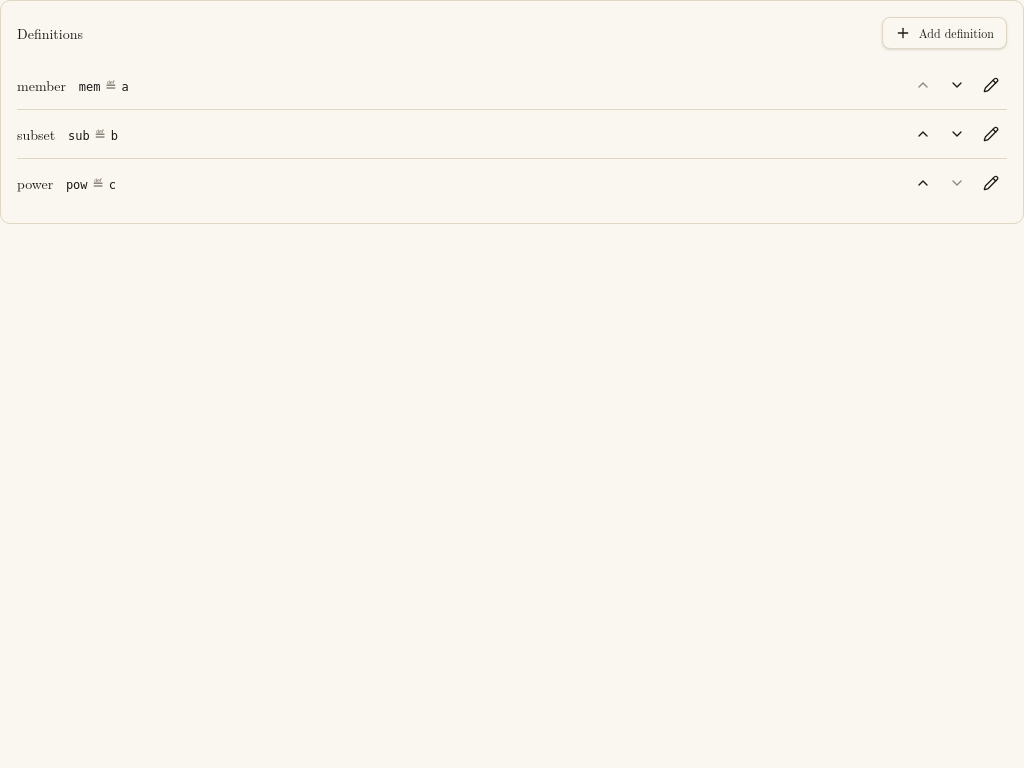
DefinitionsSection layering › offers only *earlier* definitions when editing a middle one
Click the 6th button named "Edit ": (991, 134) left=975, top=118, right=1007, bottom=150
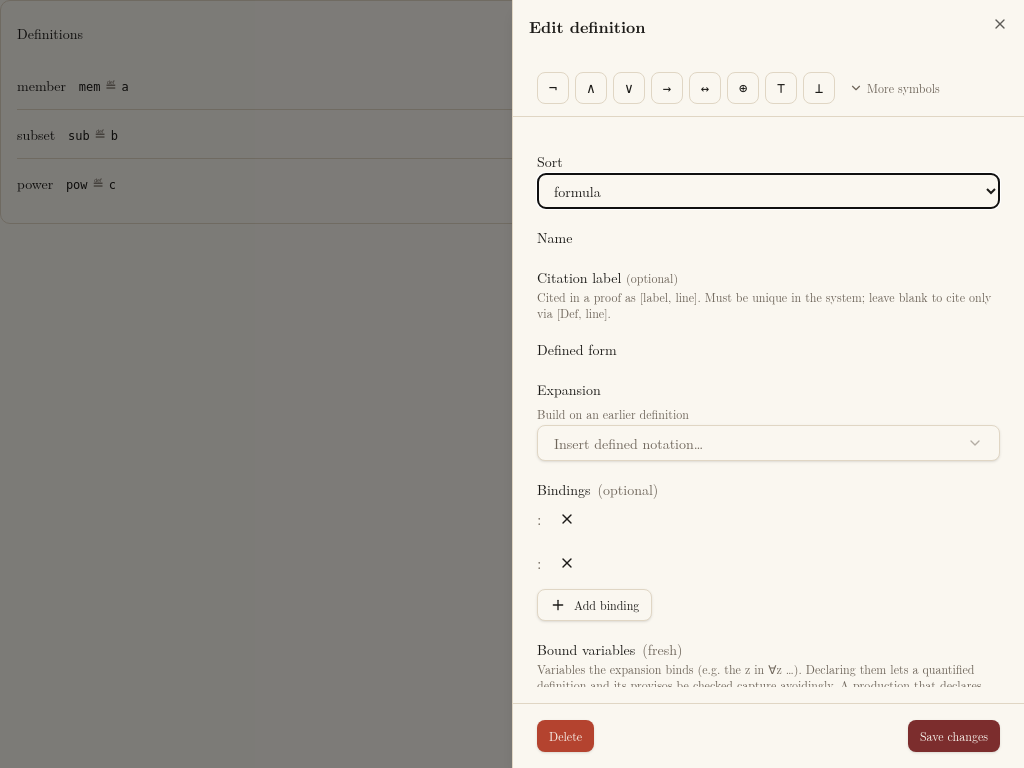
Click the dropdown named "Build on an earlier definition": (629, 443) left=537, top=425, right=1000, bottom=461
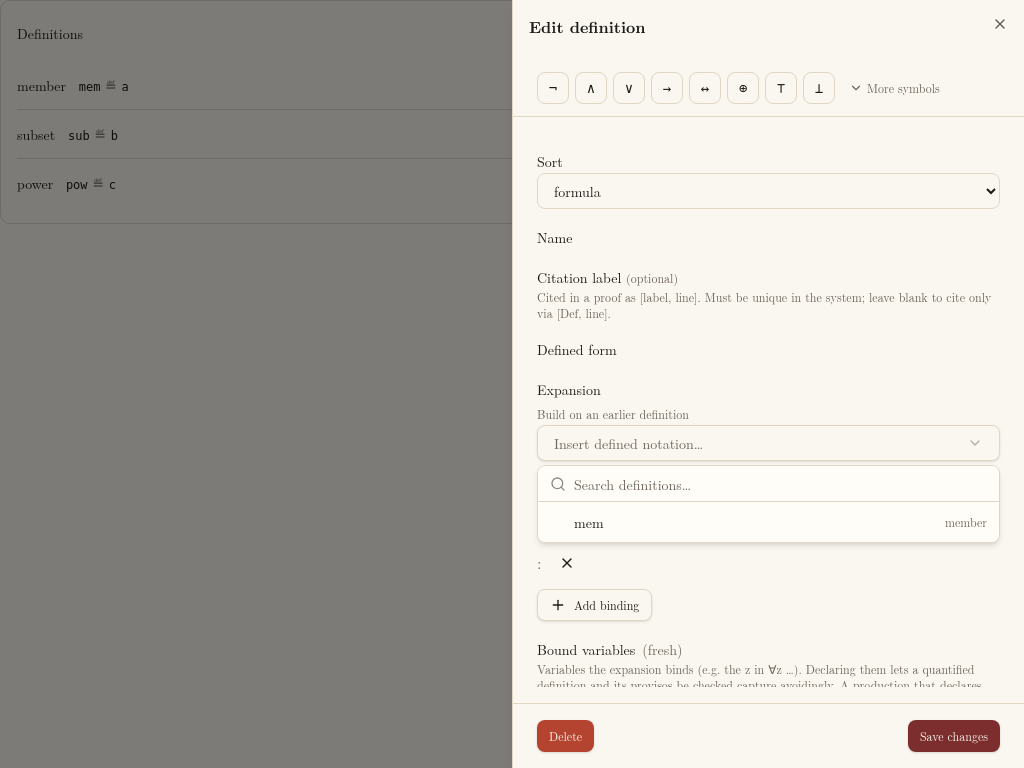
Check: the text "pow" is not shown
Check: the option "mem member" is shown, box left=542, top=506, right=995, bottom=538
